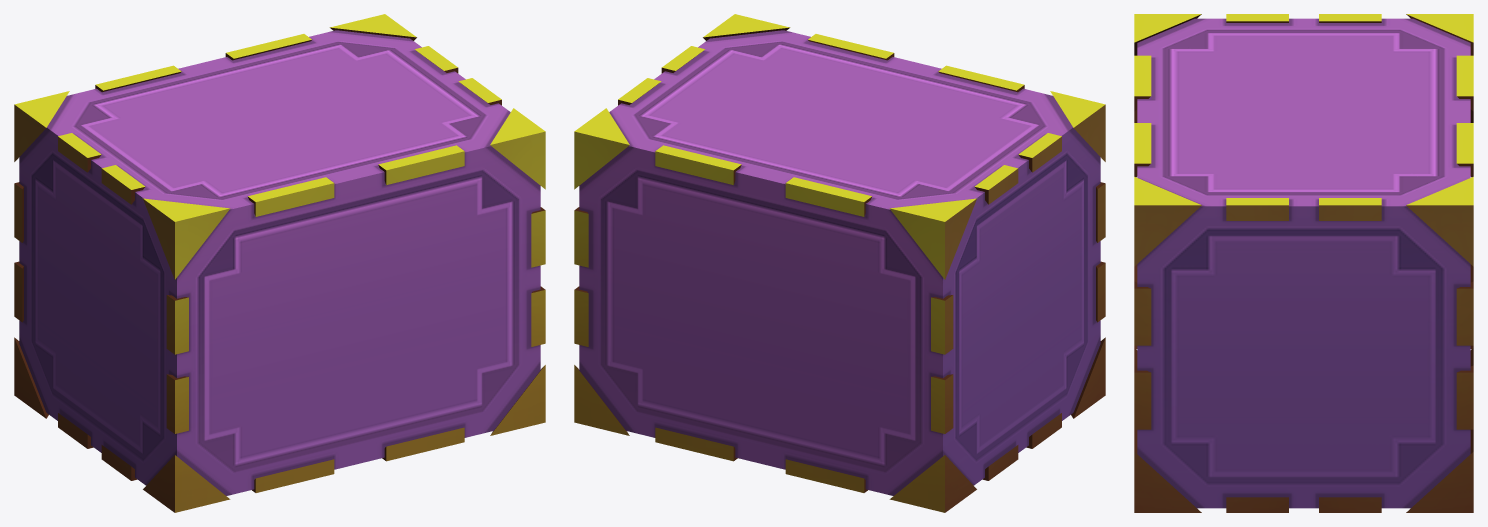
Rendered from G_007_TimerBlock.FBX.
The picture shows the model from 3 angles, left to right: view 1: azimuth 30°, elevation 25°; view 2: azimuth 150°, elevation 25°; view 3: azimuth 270°, elevation 25°; orthographic projection. The views are drawn at different scales.
Visible parts, largest first — view 1: Block, G_007_TimerBlock; view 2: Block, G_007_TimerBlock; view 3: Block, G_007_TimerBlock.
Boxes of the visible parts, box(x1,y1,x2,y2) form: Block: box(19, 30, 540, 495); G_007_TimerBlock: box(14, 14, 545, 512); Block: box(579, 30, 1100, 495); G_007_TimerBlock: box(574, 14, 1105, 512); Block: box(1137, 18, 1470, 508); G_007_TimerBlock: box(1134, 14, 1473, 512).
Bounding box in the file's own units: 408 × 306 × 306.
